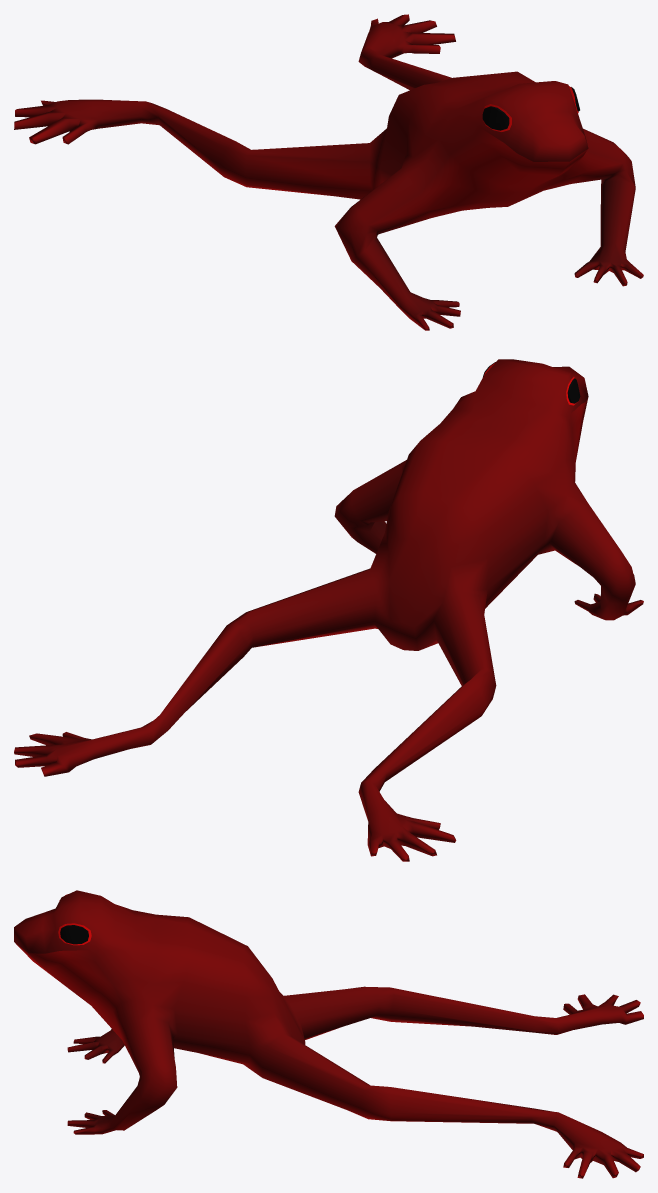
File: Amphibians_GreenFrog.fbx
3 renders of one model, top to bottom at view 1: azimuth 30°, elevation 25°; view 2: azimuth 150°, elevation 25°; view 3: azimuth 270°, elevation 25°, orthographic. The views are drawn at different scales.
Visible parts, largest first — view 1: GreenFrog; view 2: GreenFrog; view 3: GreenFrog.
Boxes of the visible parts, box(x1,y1,x2,y2) form: GreenFrog: box(14, 14, 643, 330); GreenFrog: box(14, 359, 643, 861); GreenFrog: box(14, 890, 643, 1178).
Size of the model in its own units: 110 by 52.88 by 162.
